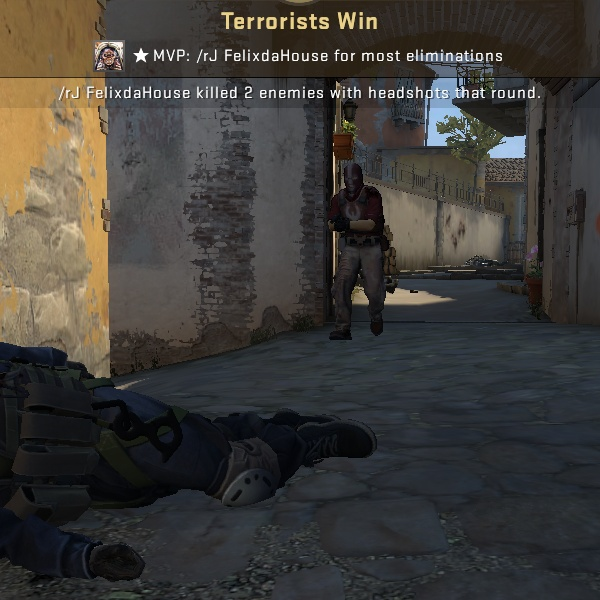t_body: (308, 159, 411, 346)
t_head: (334, 159, 375, 200)
